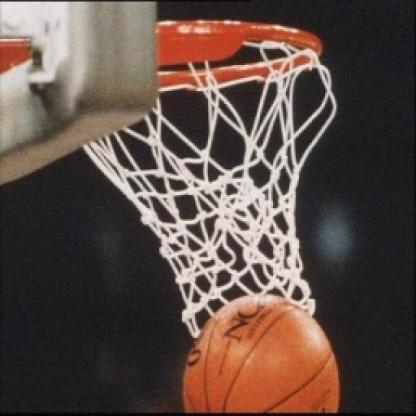basketball: (174, 289, 349, 416)
